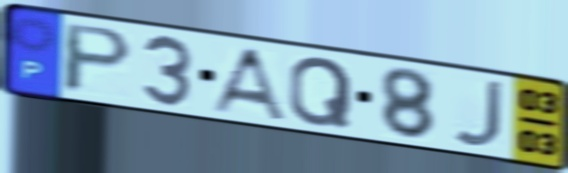3: (139, 33, 196, 109)
8: (377, 65, 439, 143)
A: (205, 44, 290, 124)
J: (449, 78, 507, 150)
P: (59, 21, 136, 96)
Q: (285, 55, 355, 129)
